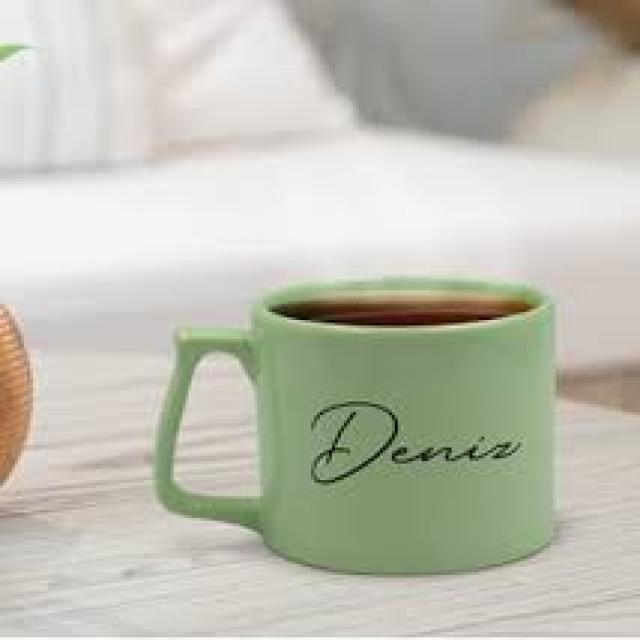taza: (152, 274, 558, 578)
